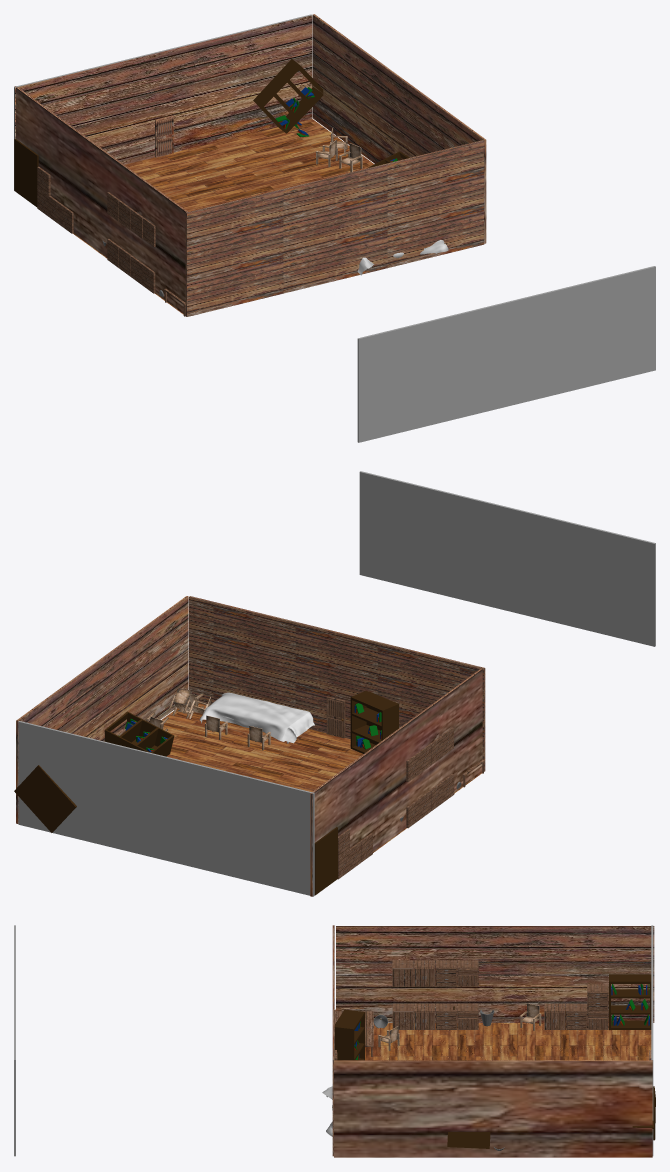
File: candleRoomExport.fbx
3 renders of one model, top to bottom at view 1: azimuth 30°, elevation 25°; view 2: azimuth 150°, elevation 25°; view 3: azimuth 270°, elevation 25°, orthographic. The views are drawn at different scales.
Visible parts, largest first — view 1: pCube3, pCube2, pCube1, pCube4, pCube5, pPlane1, pCube89, pCube83, door_model:pCube17; view 2: pCube3, pCube1, pCube2, pCube4, pCube5, pPlane1, oldWoodTableWcloth:pCube7, pCube84, pCube89, pCube94, pCube83, pCube17; view 3: pCube5, pCube4, pPlane1, pCube83, pCube84, pCube94, pCube2, pCube43, pCube48, pCube50, pCube53, pCube54 (+11 smaller).
Part boxes in pixels (box(x1,y1,x2,y2)): pCube3: box(357, 266, 655, 442); pCube2: box(185, 140, 484, 316); pCube1: box(14, 14, 312, 190); pCube4: box(14, 86, 187, 313); pCube5: box(312, 14, 486, 243); pPlane1: box(73, 119, 373, 314); pCube89: box(253, 59, 323, 133); pCube83: box(14, 139, 38, 207); door_model:pCube17: box(155, 115, 173, 157); pCube3: box(359, 471, 655, 646); pCube1: box(18, 721, 314, 896); pCube2: box(189, 596, 485, 771); pCube4: box(310, 668, 482, 896); pCube5: box(16, 596, 188, 823); pPlane1: box(162, 703, 482, 852); oldWoodTableWcloth:pCube7: box(199, 692, 314, 743); pCube84: box(350, 691, 398, 753); pCube89: box(14, 765, 76, 832); pCube94: box(104, 711, 174, 756); pCube83: box(314, 827, 337, 895); pCube17: box(326, 696, 345, 738); pCube5: box(334, 1060, 652, 1157); pCube4: box(336, 926, 654, 1022); pPlane1: box(365, 1023, 651, 1060); pCube83: box(609, 974, 651, 1029); pCube84: box(334, 1009, 364, 1060); pCube94: box(447, 1132, 490, 1148); pCube2: box(332, 925, 334, 1156); pCube43: box(544, 1003, 565, 1029); pCube48: box(587, 984, 608, 1010); pCube50: box(457, 1003, 478, 1029); pCube53: box(392, 960, 413, 986); pCube54: box(414, 960, 435, 986).
Bounding box in the file's own units: 15.4 × 5.18 × 30.24.
